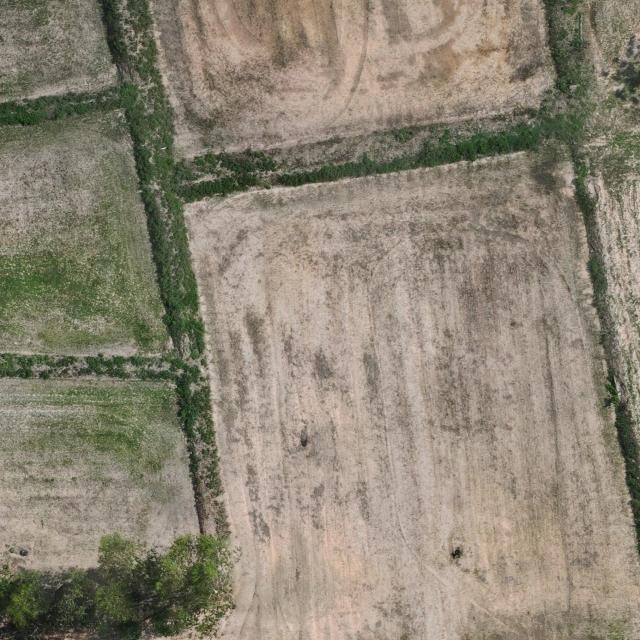Tree: (94, 530, 245, 640), (528, 86, 640, 200), (45, 564, 92, 634), (0, 570, 47, 636)
